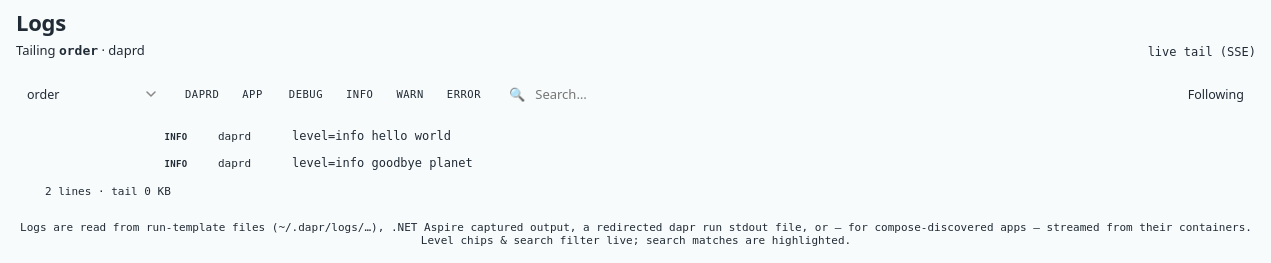
Test: Logs › F3-new — tailKB reflects full buffer size even when search filter is active
Expected: the text "level=info hello world" is shown, top-left (292, 129), bottom-right (451, 143)
# Apply a search filter that matches only one line
Type "hello" into the search field with placeholder "Search…" at (838, 94), box top-left (533, 84), bottom-right (1142, 104)
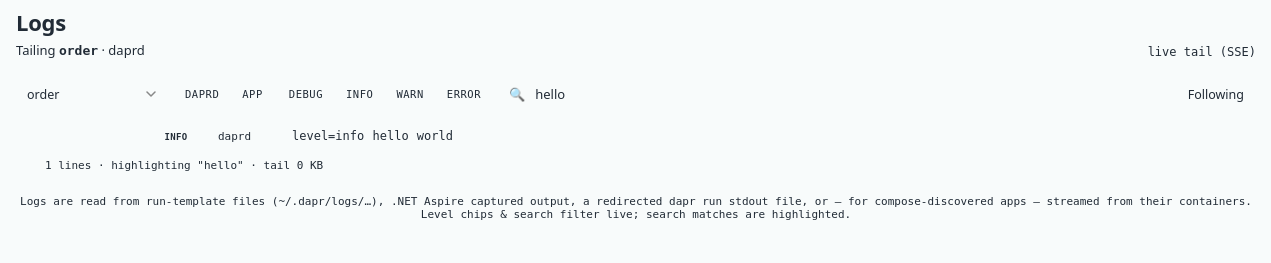
Result: the text "goodbye planet" is gone
